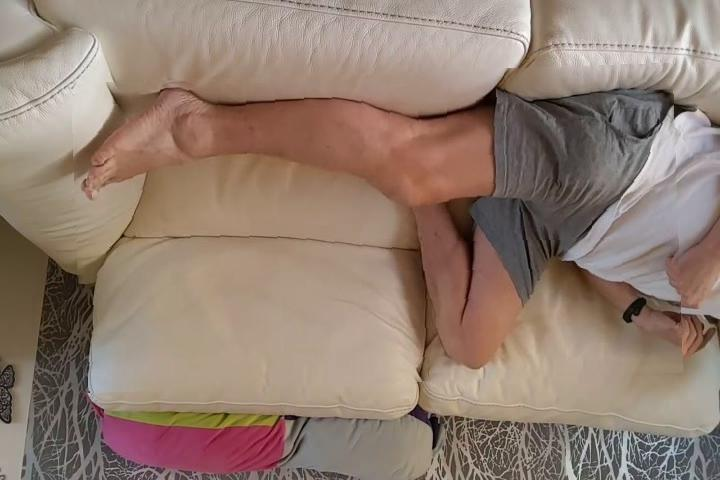lower_body: (74, 70, 682, 390)
